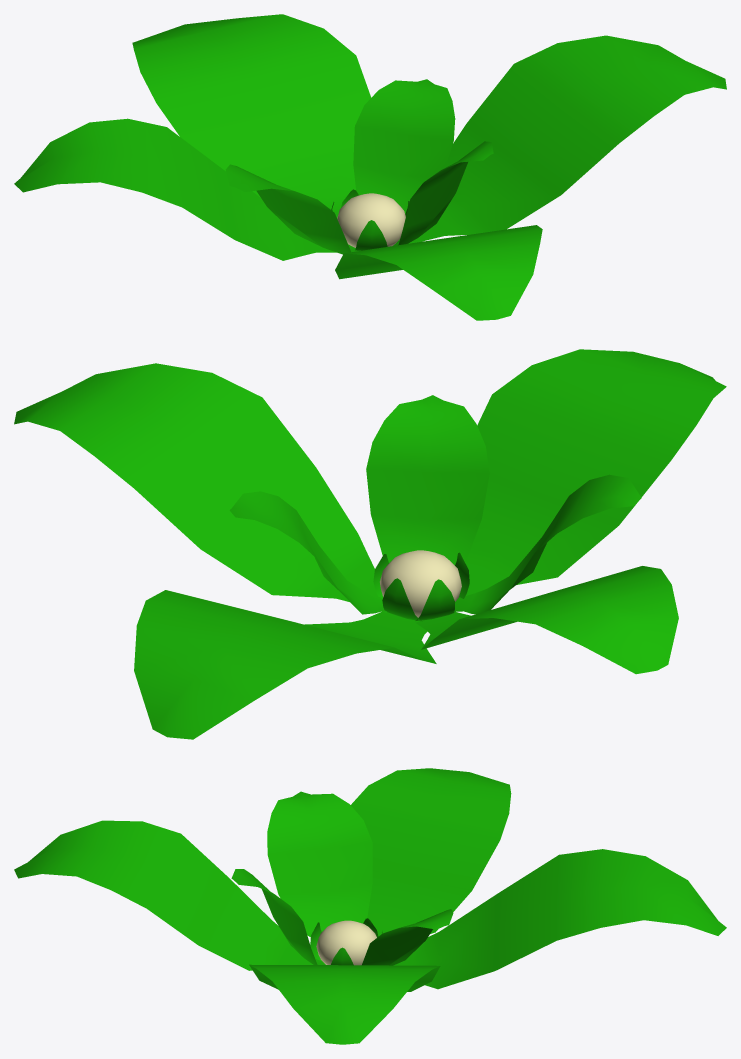
The model's file is cauliflower_01.fbx.
The picture shows the model from 3 angles, top to bottom: view 1: azimuth 30°, elevation 25°; view 2: azimuth 150°, elevation 25°; view 3: azimuth 270°, elevation 25°; orthographic projection. The views are drawn at different scales.
Parts seen in each view (by area): view 1: Plane.006; view 2: Plane.006; view 3: Plane.006.
Part boxes in pixels (x1,y1,x2,y2): Plane.006: (14,14,726,320); Plane.006: (14,349,726,739); Plane.006: (14,768,726,1044).
Bounding box in the file's own units: 968 × 191 × 1066.
